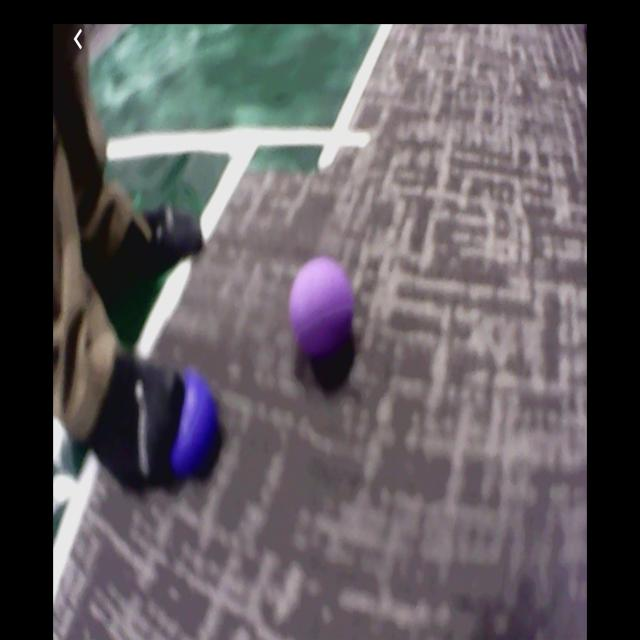ball: (288, 257, 357, 360), (169, 375, 224, 481)
